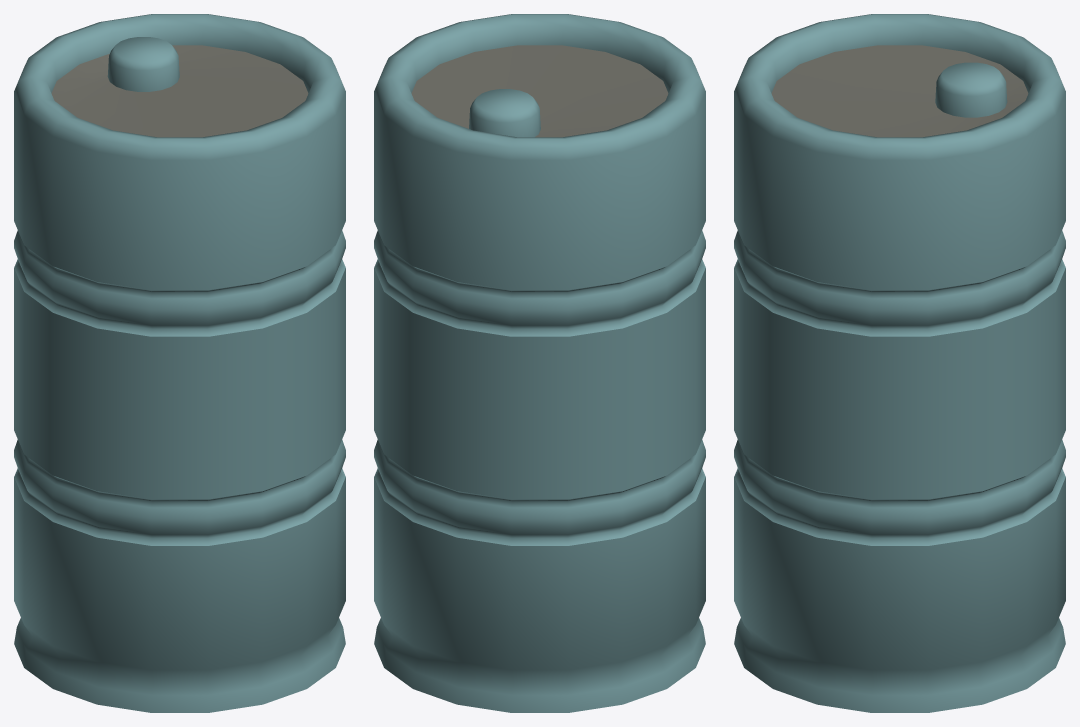
The model's file is CA_152_oil_barrel.glb.
3 views of the same model, side by side, from view 1: azimuth 30°, elevation 25°; view 2: azimuth 150°, elevation 25°; view 3: azimuth 270°, elevation 25° (orthographic).
Visible parts, largest first — view 1: barrel; view 2: barrel; view 3: barrel.
Boxes of the visible parts, x1,y1,x2,y2 form: barrel: (14, 14, 345, 712); barrel: (374, 14, 705, 712); barrel: (734, 14, 1065, 712).
Size of the model in its own units: 0.7386 by 1.42 by 0.75.
